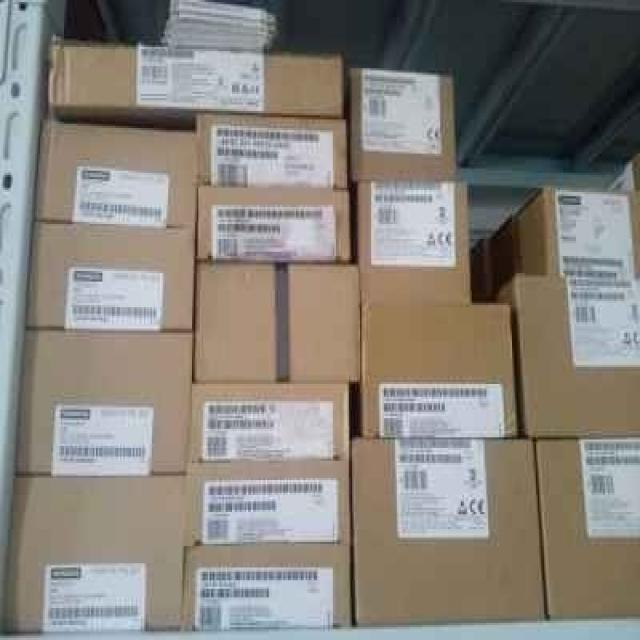box: (352, 437, 549, 622), (4, 474, 188, 632), (48, 35, 344, 126), (16, 328, 195, 475), (493, 276, 638, 436), (361, 303, 517, 436), (535, 432, 637, 615), (27, 221, 199, 329), (36, 118, 198, 228), (186, 456, 353, 546), (358, 175, 472, 305), (182, 546, 352, 625), (189, 377, 350, 459), (196, 181, 350, 262), (199, 107, 351, 188), (349, 68, 457, 178), (517, 184, 638, 279), (191, 258, 280, 379), (289, 263, 361, 380), (489, 217, 523, 295), (471, 238, 493, 301), (610, 151, 638, 192)
